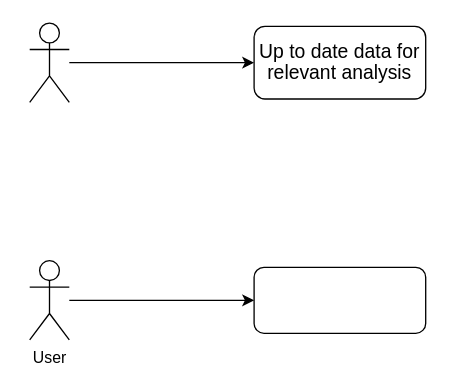
This 449x391 diagram has some shape labels left out. The centre of each missing label's shape, as x and y in pixels:
System: point 48,62
View details about a specific country: point 339,299
